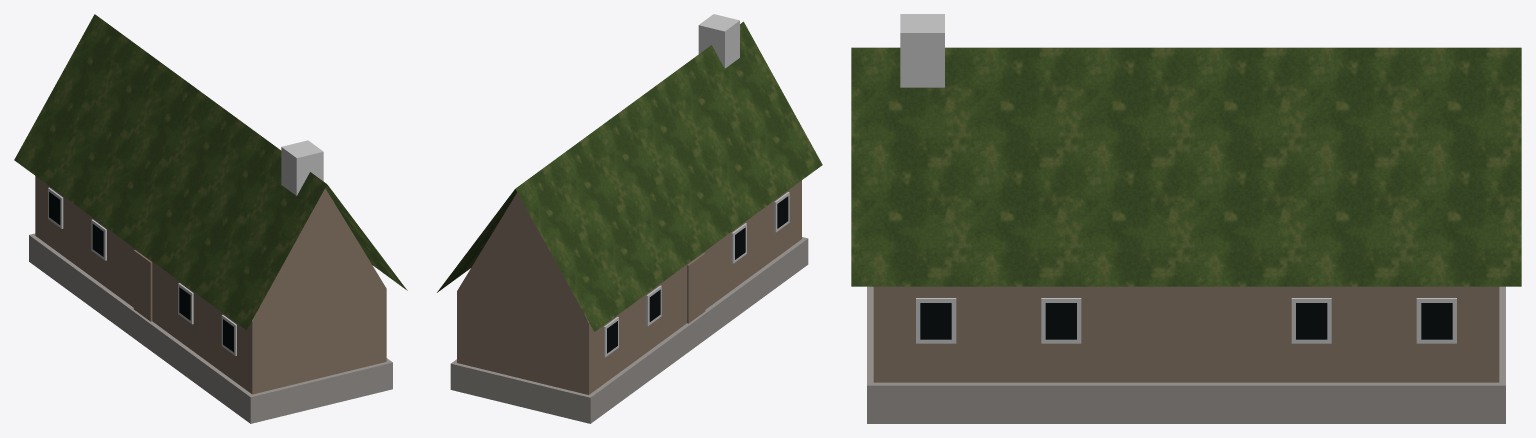
Rendered from SM_Art_Settlement_Nordic_2.gltf.
3 views of the same model, side by side, from view 1: azimuth 30°, elevation 25°; view 2: azimuth 150°, elevation 25°; view 3: azimuth 270°, elevation 25° (orthographic). The views are drawn at different scales.
Parts seen in each view (by area): view 1: SM_Art_Settlement_Nordic_2; view 2: SM_Art_Settlement_Nordic_2; view 3: SM_Art_Settlement_Nordic_2.
Part boxes in pixels (box(x1,y1,x2,y2)): SM_Art_Settlement_Nordic_2: box(14, 14, 407, 423); SM_Art_Settlement_Nordic_2: box(437, 14, 822, 423); SM_Art_Settlement_Nordic_2: box(851, 14, 1521, 423).
Size of the model in its own units: 6 by 8.65 by 15.
